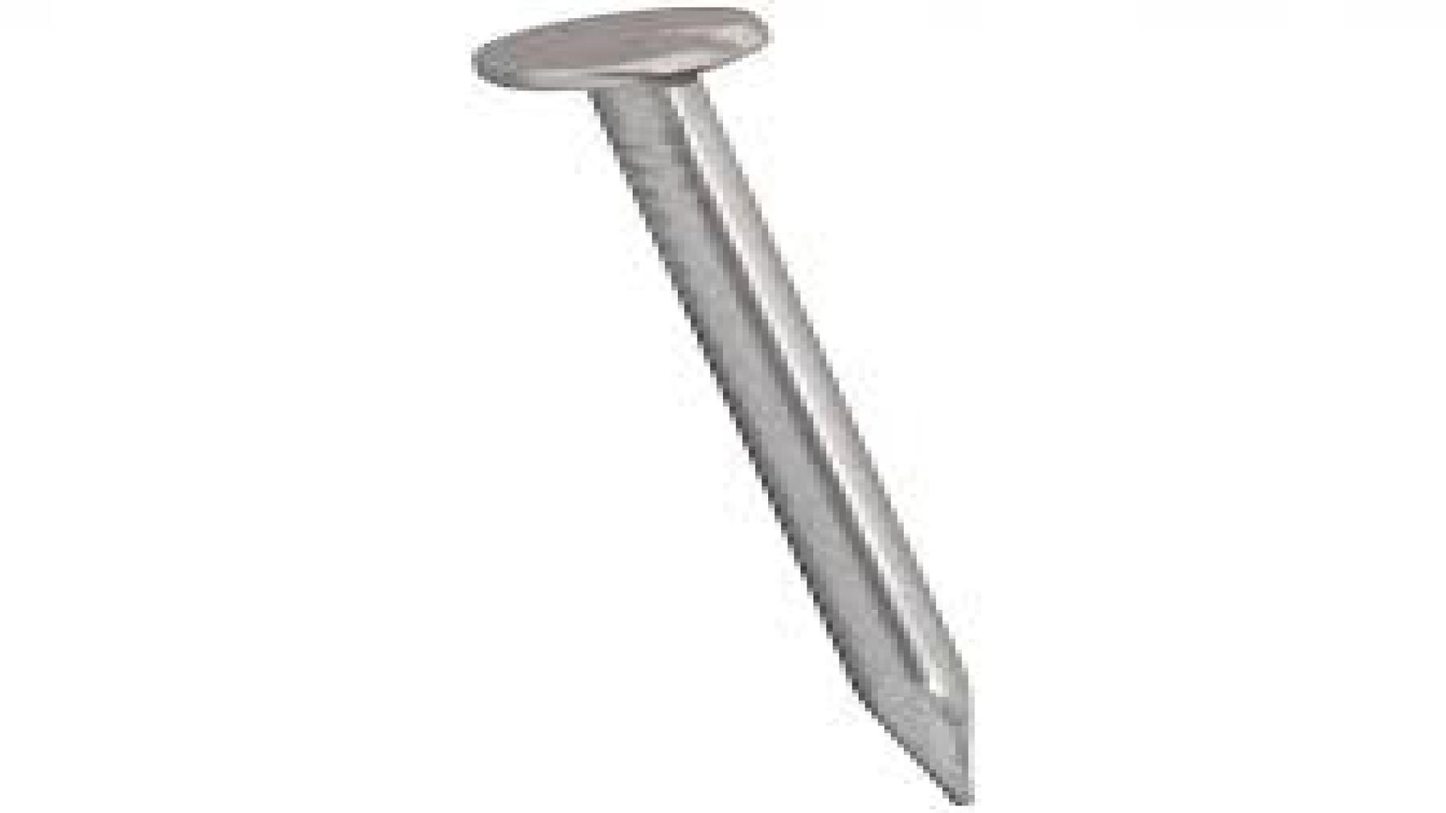nail: (355, 0, 1078, 805)
